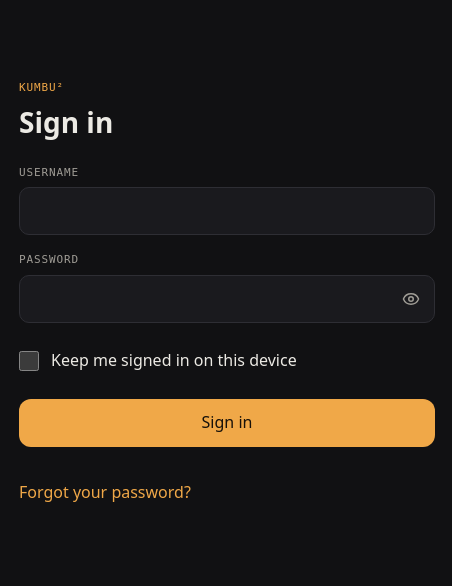
Scenario: keeping the user signed in › offers to keep the user signed in, unticked, and warns only when ticked
Check: the text "Comfortable, but less safe" is not shown
Click the checkbox labelled "Keep me signed in on this device": coordinates (29, 361) [19,351,39,371]
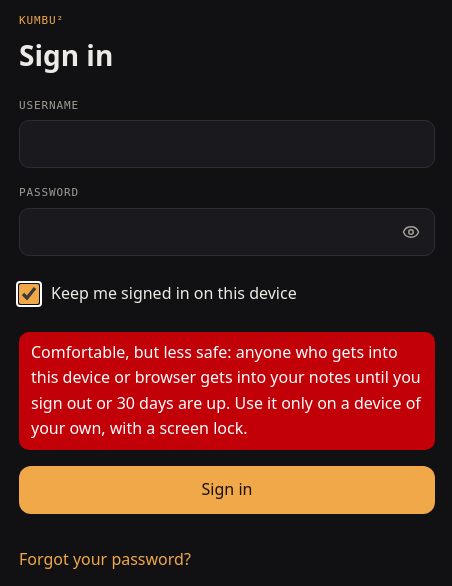
Check: the text "Comfortable, but less safe: anyone who gets into this device or browser gets into your notes until you sign out or 30 days are up. Use it only on a device of yo" is shown, box [31,341,421,440]
Click the checkbox labelled "Keep me signed in on this device": coordinates (29, 294) [19,284,39,304]
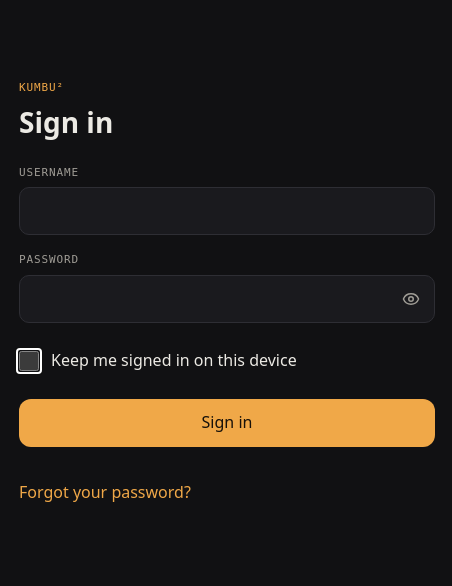
Check: the text "Comfortable, but less safe" is gone
